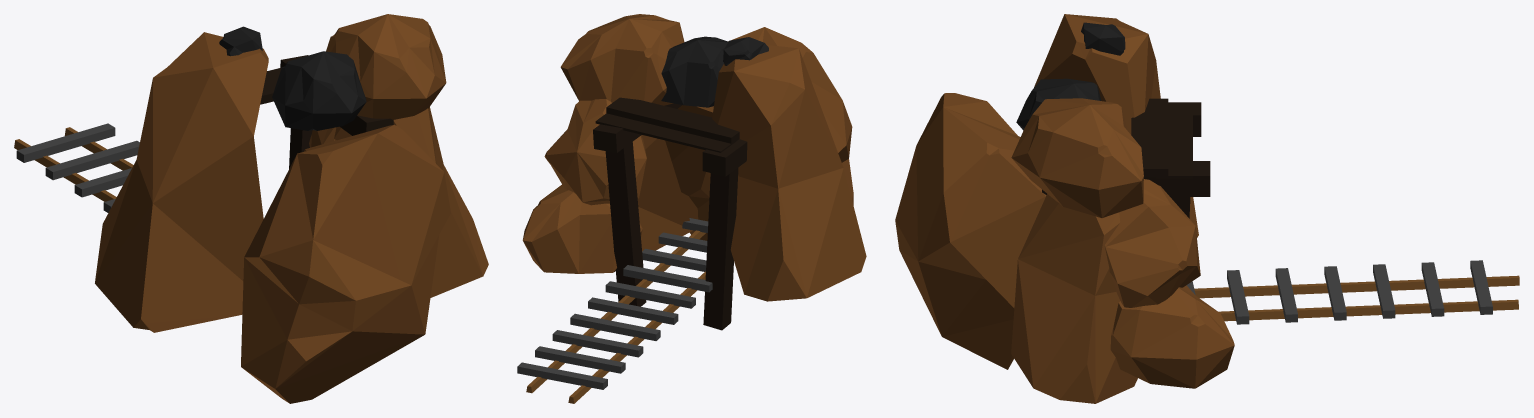
The model's file is Coal_mine_Decor.fbx.
3 views of the same model, side by side, from view 1: azimuth 30°, elevation 25°; view 2: azimuth 150°, elevation 25°; view 3: azimuth 270°, elevation 25° (orthographic). The views are drawn at different scales.
Visible parts, largest first — view 1: cave, rail; view 2: cave, rail; view 3: cave, rail.
Part boxes in pixels (x1,y1,x2,y2): cave: (95, 14, 488, 403); rail: (14, 123, 139, 212); cave: (522, 14, 866, 330); rail: (517, 218, 712, 403); cave: (895, 14, 1234, 403); rail: (1186, 260, 1519, 324).
Size of the model in its own units: 559 by 497 by 884.
